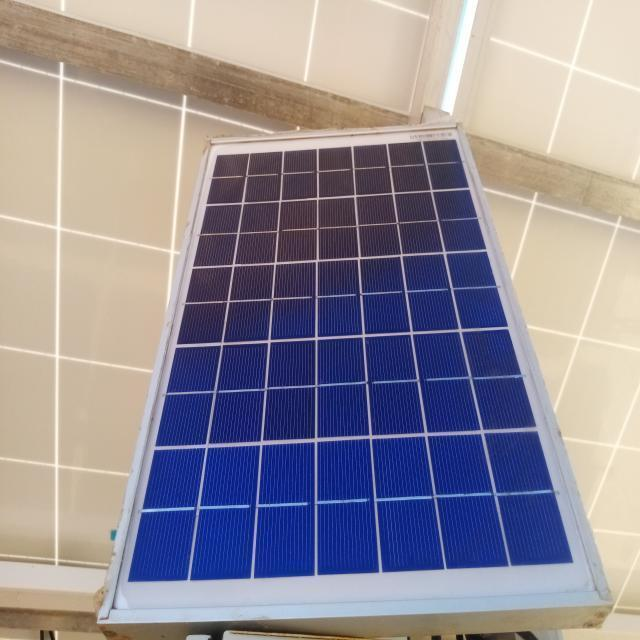Normal Solar Panel: (103, 125, 607, 615)
